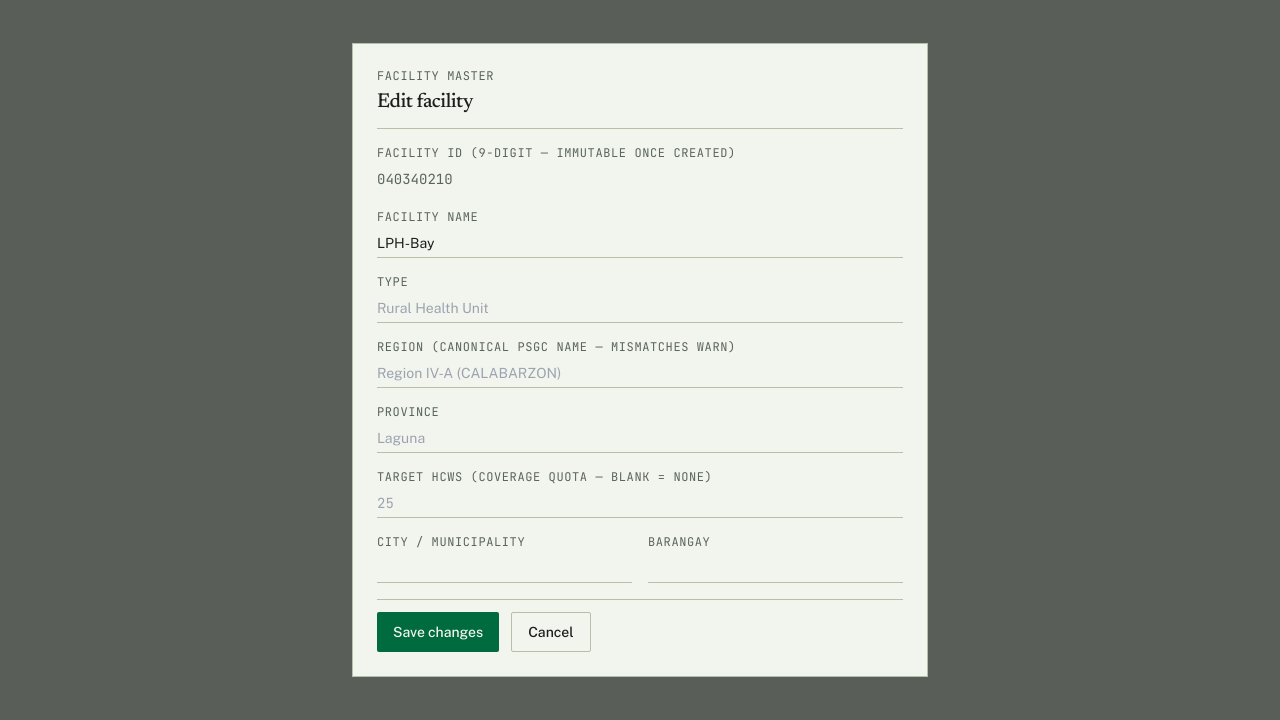
<FacilityEditDialog> › geo warnings keep the dialog open and render as chips
Step 1. Click the button with test id "edit-save" → (438, 632), box [377,612,499,652]
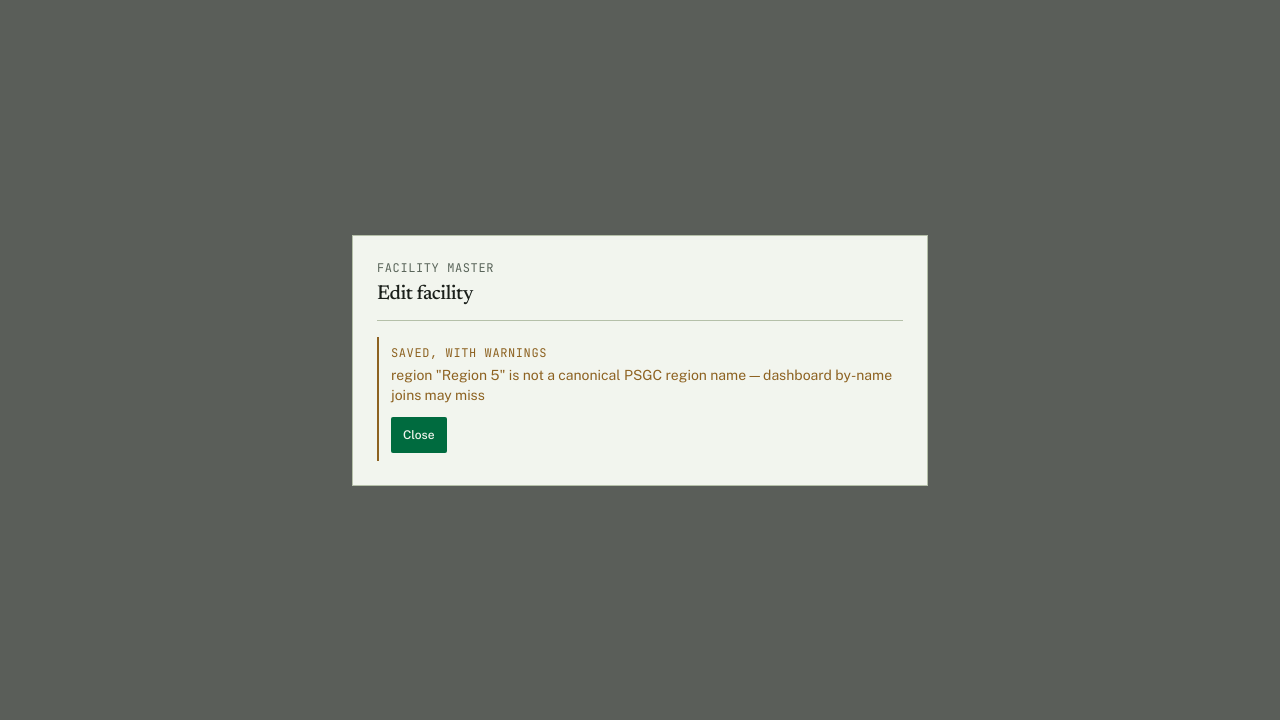
Expected: the element with test id "edit-warnings" is shown, [377,336,903,460]
Expected: the element with test id "edit-warnings" shows "not a canonical PSGC region", [391,366,892,402]
